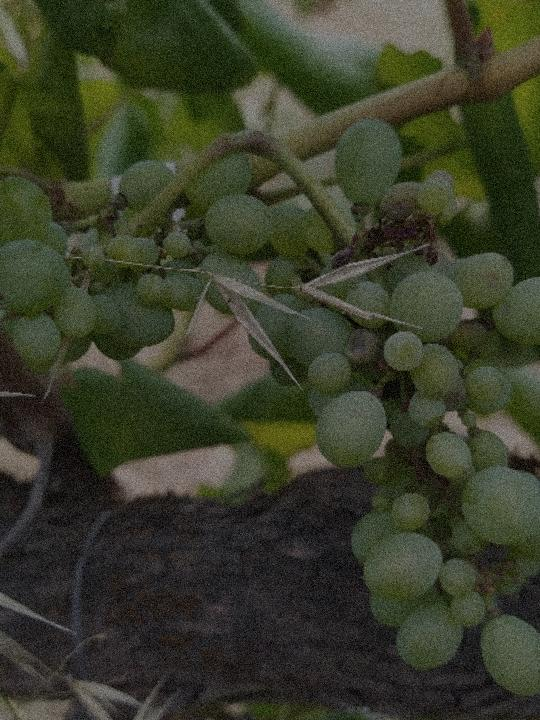grape: (0, 117, 540, 695)
